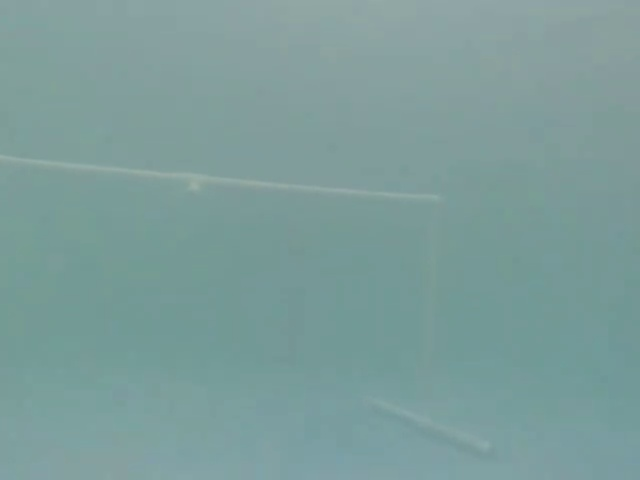gate: (0, 146, 500, 463)
